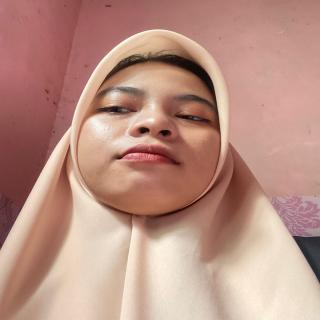Sedih: (74, 53, 226, 217)
